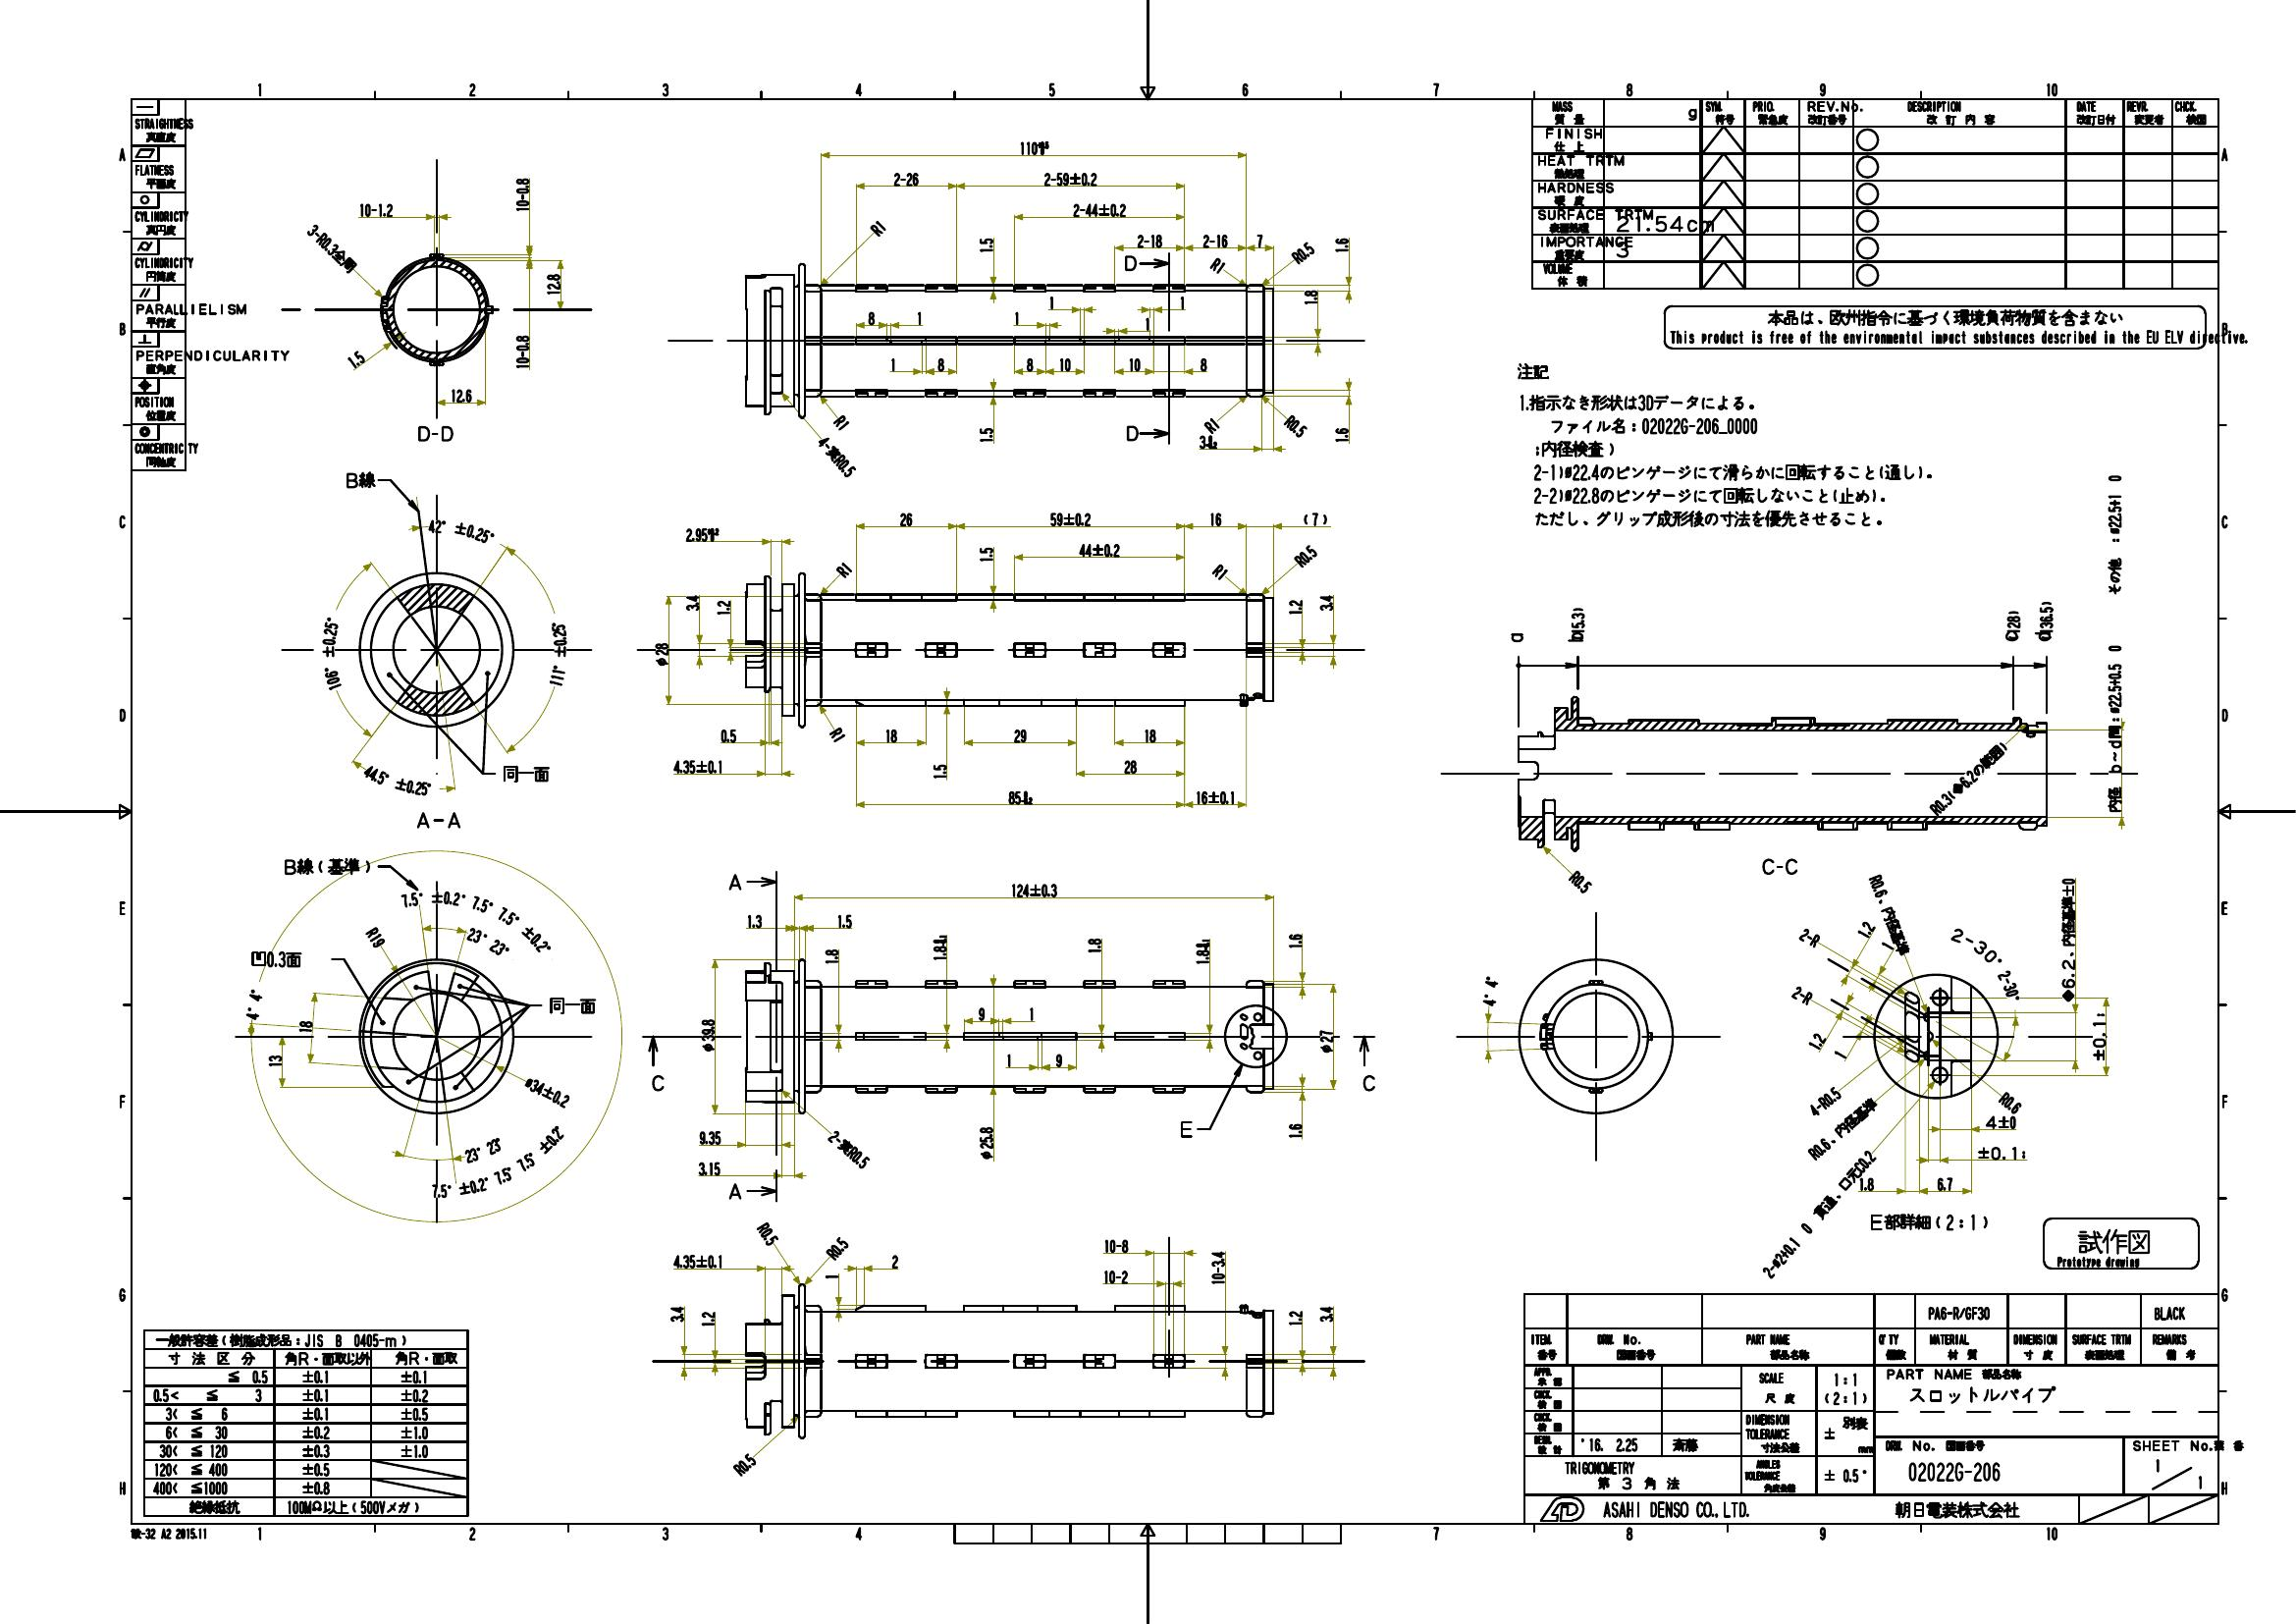anntotation_text: (1514, 359, 1939, 531), (1664, 306, 2206, 350), (2043, 1218, 2199, 1269), (1866, 1211, 1990, 1236), (281, 856, 372, 877), (2106, 715, 2122, 816), (411, 417, 458, 441), (546, 995, 599, 1016), (415, 807, 462, 830), (499, 763, 550, 784), (130, 1526, 206, 1540), (249, 949, 304, 968), (1758, 856, 1804, 875), (2108, 538, 2122, 598), (1829, 1111, 1881, 1125), (343, 469, 378, 490), (1890, 907, 1904, 956), (1811, 1195, 1843, 1211), (330, 253, 358, 269), (1177, 1116, 1195, 1139), (1358, 1074, 1377, 1093), (722, 872, 741, 891), (648, 1070, 664, 1093), (1507, 629, 1525, 647), (726, 1181, 741, 1200), (1123, 255, 1138, 272), (1123, 424, 1138, 439)
dimension_text: (1939, 951, 2036, 974), (2059, 875, 2075, 1004), (321, 615, 344, 691), (550, 620, 567, 689), (427, 522, 495, 540), (364, 773, 432, 791), (1751, 1243, 1822, 1258), (511, 1139, 567, 1158), (432, 1178, 490, 1195), (402, 891, 466, 907), (492, 923, 555, 939), (2108, 643, 2122, 714), (1042, 169, 1100, 185), (1072, 200, 1128, 216), (2108, 473, 2122, 534), (2036, 599, 2055, 643), (671, 758, 724, 773), (1075, 540, 1123, 557), (2090, 1009, 2106, 1062), (1007, 882, 1058, 898), (824, 1142, 873, 1158), (1976, 1144, 2025, 1160), (1047, 510, 1093, 526), (466, 935, 511, 951), (673, 1253, 724, 1267), (812, 450, 863, 464), (523, 1084, 573, 1098), (1193, 789, 1235, 805), (2003, 608, 2022, 642), (1569, 605, 1585, 645), (464, 1142, 502, 1158), (358, 200, 397, 216), (1830, 1165, 1880, 1178), (1808, 1093, 1845, 1109), (1209, 1248, 1224, 1285), (515, 330, 529, 371), (699, 1018, 715, 1053), (683, 526, 718, 541), (1015, 139, 1051, 155), (302, 230, 341, 244), (515, 174, 529, 213), (1193, 935, 1210, 965), (1133, 230, 1165, 246), (891, 170, 922, 186), (978, 1123, 993, 1158), (1484, 974, 1498, 1009), (1869, 874, 1887, 900), (754, 1223, 780, 1241), (448, 387, 474, 404), (246, 988, 260, 1019), (471, 895, 494, 914), (1202, 234, 1231, 248), (1007, 789, 1033, 805), (697, 1158, 724, 1174), (1318, 1026, 1333, 1053), (1997, 1095, 2024, 1111), (1103, 1267, 1130, 1283), (1300, 510, 1326, 526), (546, 271, 562, 297), (933, 933, 947, 961), (653, 642, 669, 666), (1567, 874, 1592, 889), (1808, 1141, 1832, 1156), (1985, 1116, 2017, 1128), (731, 1457, 755, 1473), (1282, 418, 1307, 434), (1103, 1239, 1130, 1253), (1195, 434, 1221, 448), (1291, 244, 1318, 258), (344, 348, 365, 366), (1293, 548, 1318, 562), (697, 1130, 722, 1144), (824, 1241, 848, 1255), (1286, 596, 1303, 615), (1316, 1302, 1333, 1322), (1300, 288, 1319, 306), (1790, 988, 1813, 1002), (1808, 1032, 1825, 1049), (1332, 236, 1349, 253), (715, 598, 731, 617), (1209, 564, 1228, 580), (824, 946, 840, 965), (1286, 1120, 1302, 1139), (1857, 919, 1873, 939), (669, 1302, 685, 1322), (697, 1309, 717, 1325), (745, 914, 766, 928), (1288, 928, 1302, 949), (1936, 1178, 1957, 1192), (1318, 592, 1333, 610), (1286, 1309, 1302, 1327), (1333, 425, 1349, 443), (1207, 257, 1224, 272), (870, 220, 887, 236), (834, 914, 854, 928), (1799, 930, 1818, 944), (369, 928, 381, 949), (836, 561, 852, 576), (977, 547, 993, 562), (495, 1167, 511, 1183), (1830, 1048, 1846, 1063), (977, 236, 993, 251), (1205, 511, 1223, 526), (933, 763, 947, 780), (1121, 759, 1138, 773), (265, 1053, 283, 1067), (1087, 935, 1101, 953), (978, 425, 993, 443), (720, 729, 740, 742), (898, 510, 912, 526), (884, 729, 899, 743), (1012, 728, 1026, 743), (299, 1018, 313, 1033), (1859, 1178, 1874, 1192), (687, 592, 697, 613), (834, 415, 848, 431), (1205, 417, 1219, 432), (1051, 1053, 1065, 1067), (1880, 939, 1894, 953), (1058, 357, 1072, 371), (1024, 1004, 1036, 1019), (822, 1271, 840, 1281), (1128, 357, 1140, 371), (831, 728, 843, 742), (1144, 729, 1156, 743), (1196, 357, 1209, 371), (889, 1253, 899, 1269), (887, 355, 898, 371), (1254, 232, 1265, 248), (975, 1007, 986, 1021), (1045, 295, 1056, 309), (913, 311, 924, 325), (866, 311, 877, 325), (1005, 1051, 1014, 1067), (1177, 297, 1188, 309), (1024, 357, 1033, 371), (936, 357, 945, 371), (1012, 311, 1021, 323), (1142, 318, 1151, 330)
object: (745, 958, 1288, 1114), (1518, 696, 2048, 851), (745, 264, 1274, 418), (745, 1285, 1274, 1438), (747, 575, 1274, 728), (362, 571, 515, 729), (1518, 960, 1672, 1114), (360, 958, 513, 1114), (1874, 975, 1999, 1098), (379, 253, 494, 366)
title_block: (1523, 1292, 2219, 1524), (1530, 98, 2220, 290), (144, 1329, 469, 1517), (132, 98, 186, 471)
